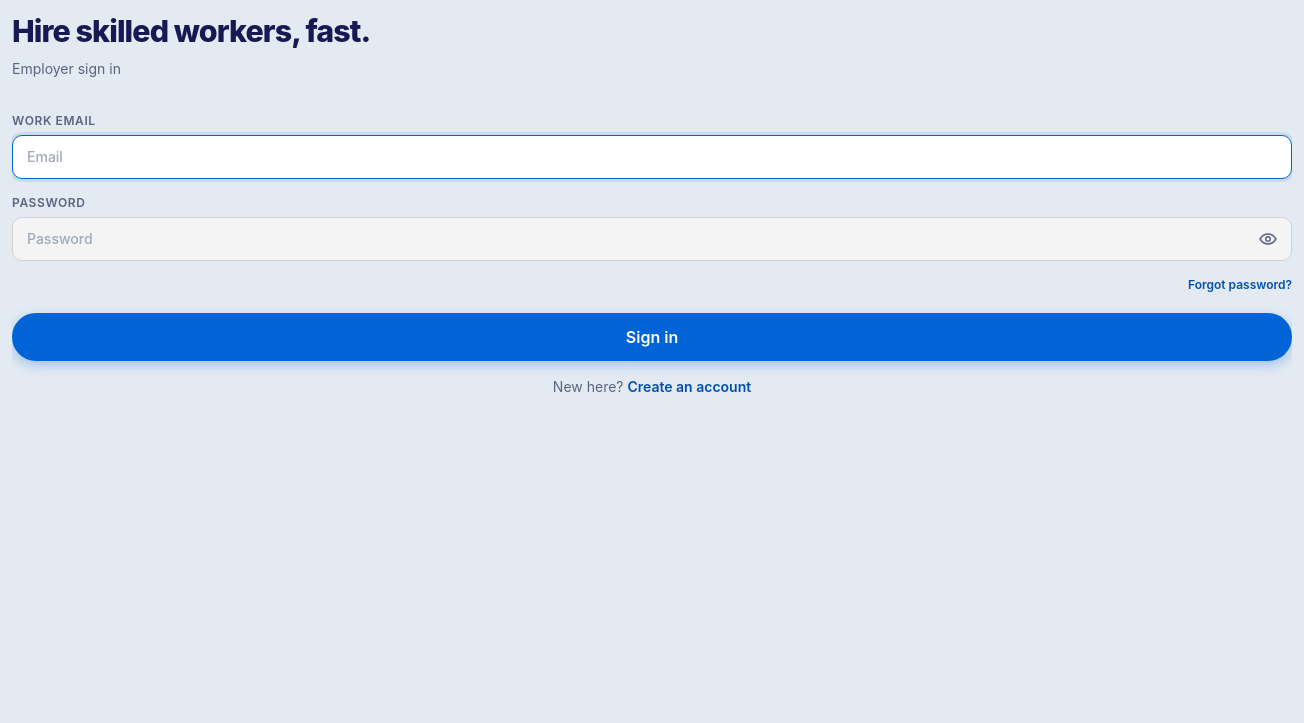
Test: EmployerAuthForm — signup copy › asks the employer to create an account, and says a code comes by email next
Click the button "Create an account". click: (689, 387)
box: [627, 377, 751, 397]
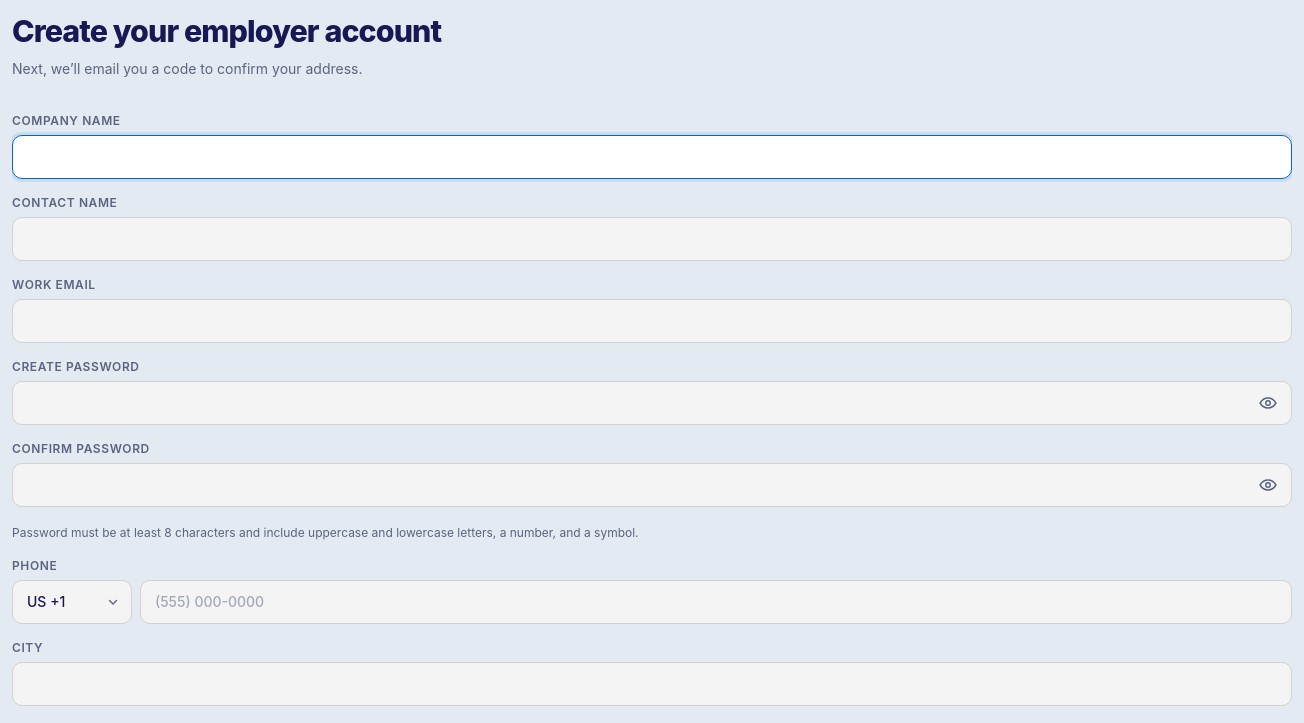
expect the heading reads "Create your employer account": met, box [12, 13, 441, 49]
expect the text "Next, we’ll email you a code to confirm your address." is shown: met, box [12, 60, 362, 77]
